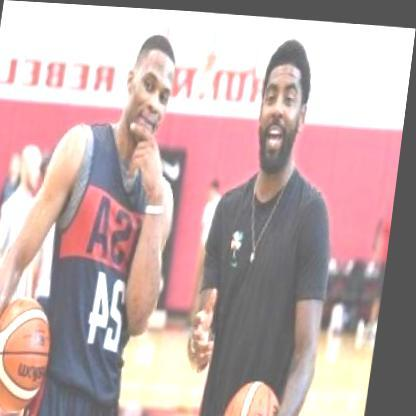basketball: (0, 287, 70, 416), (225, 370, 302, 416)
